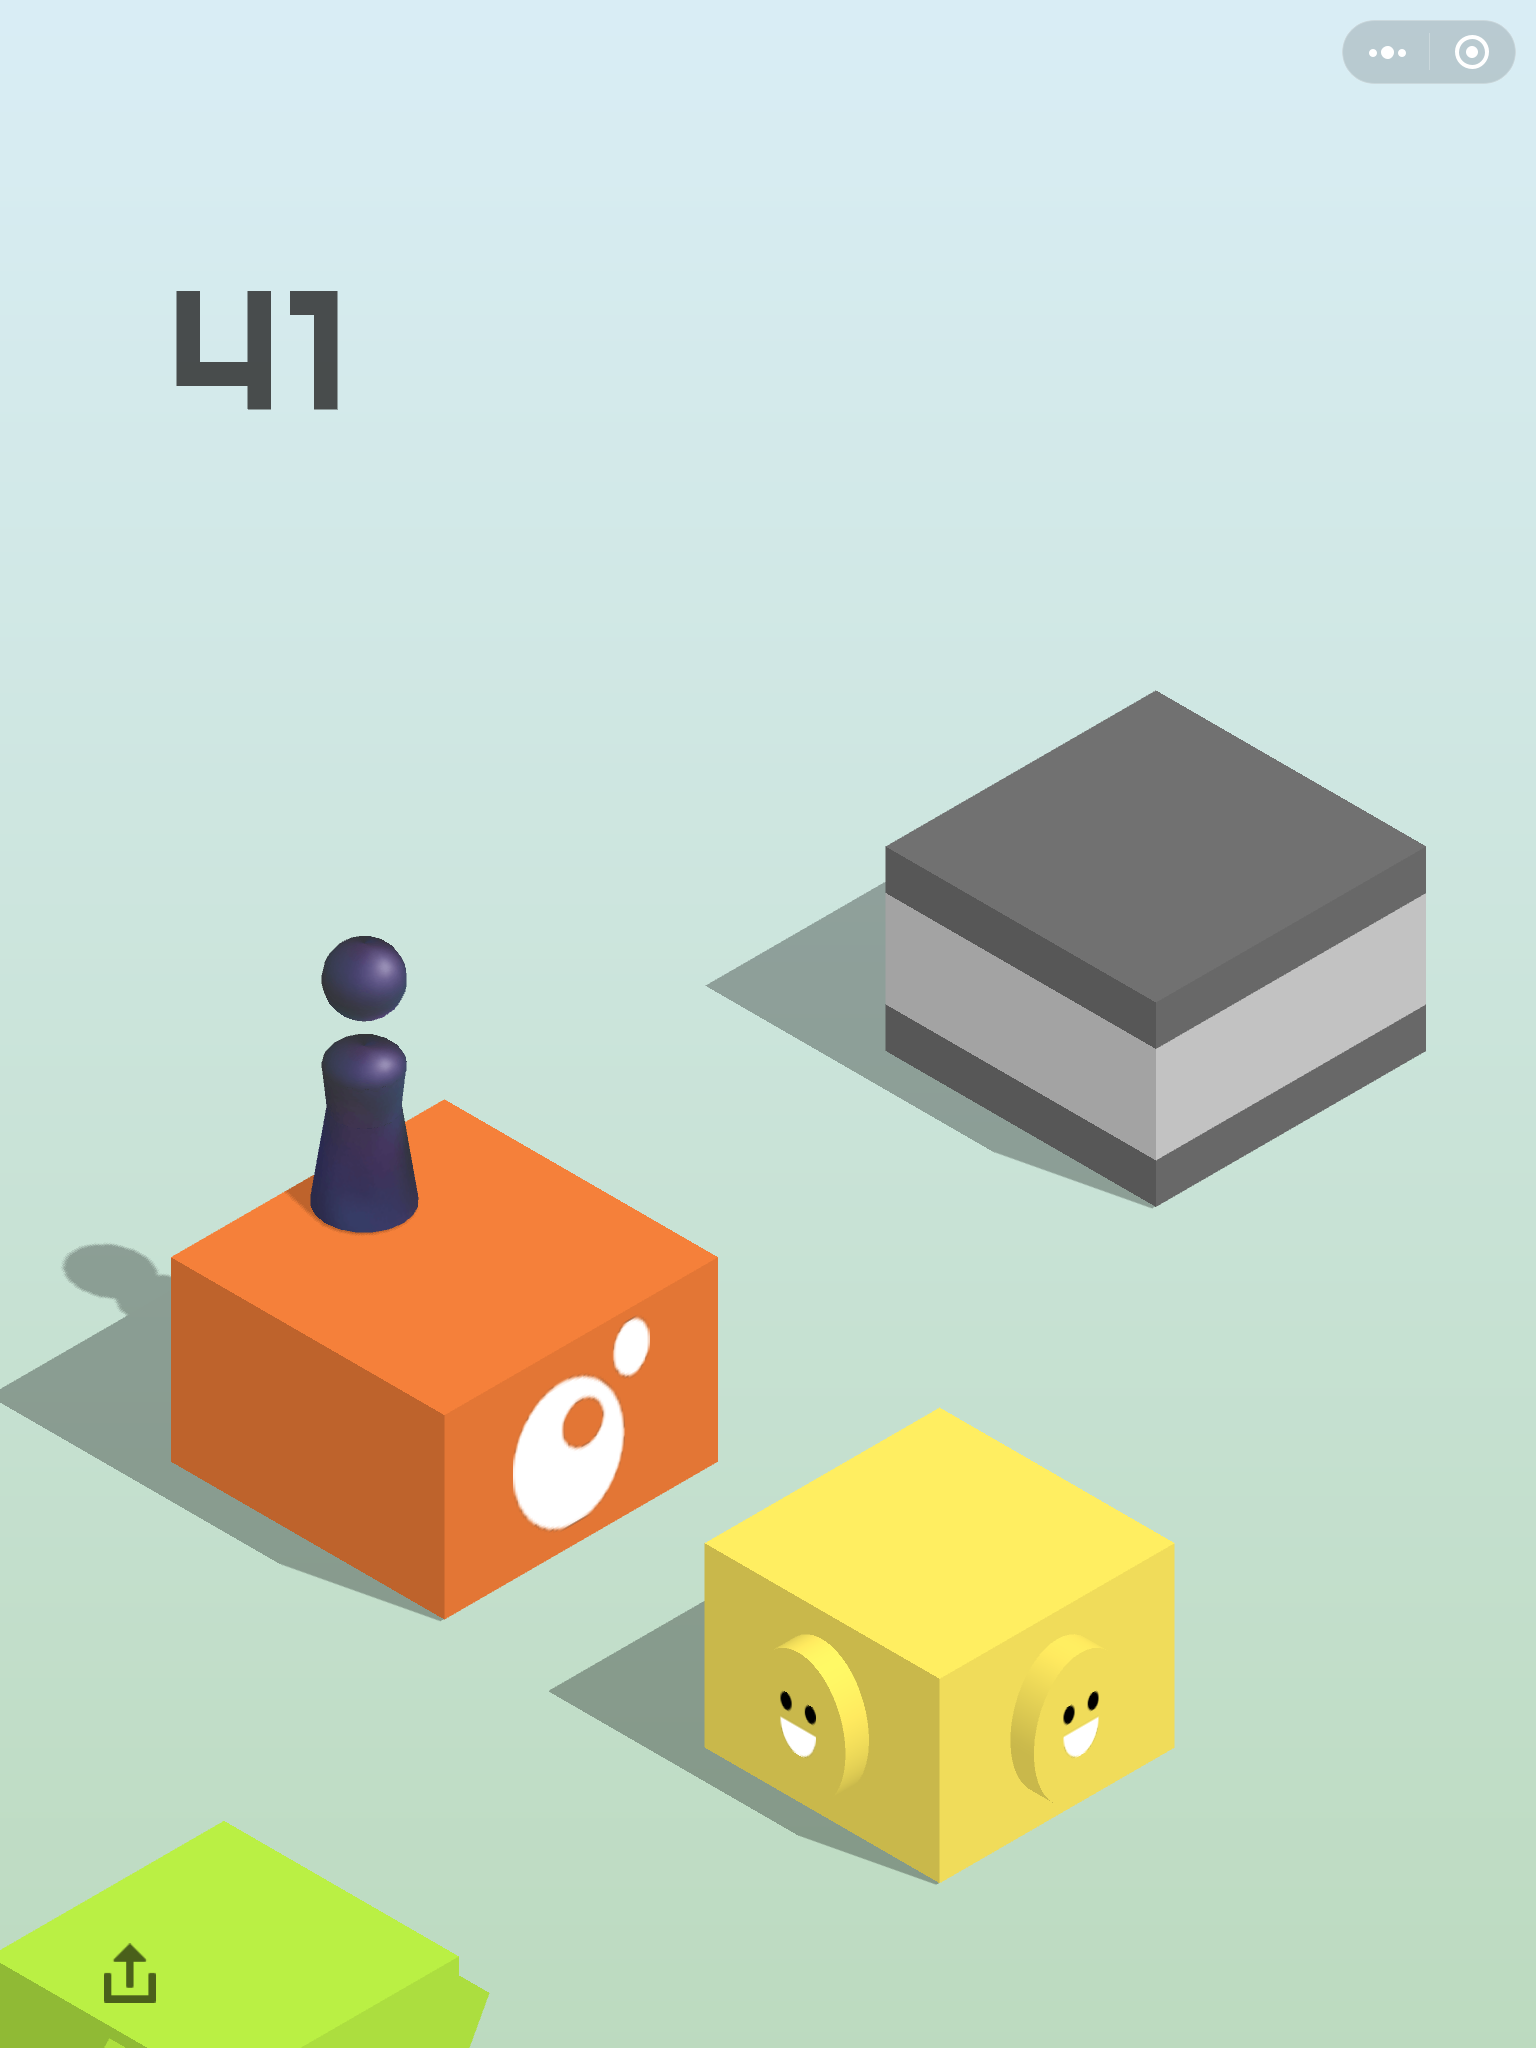f: (168, 1097, 724, 1619), (879, 689, 1433, 1211), (699, 1400, 1181, 1884), (2, 1817, 500, 2048)
r: (303, 930, 424, 1234)
